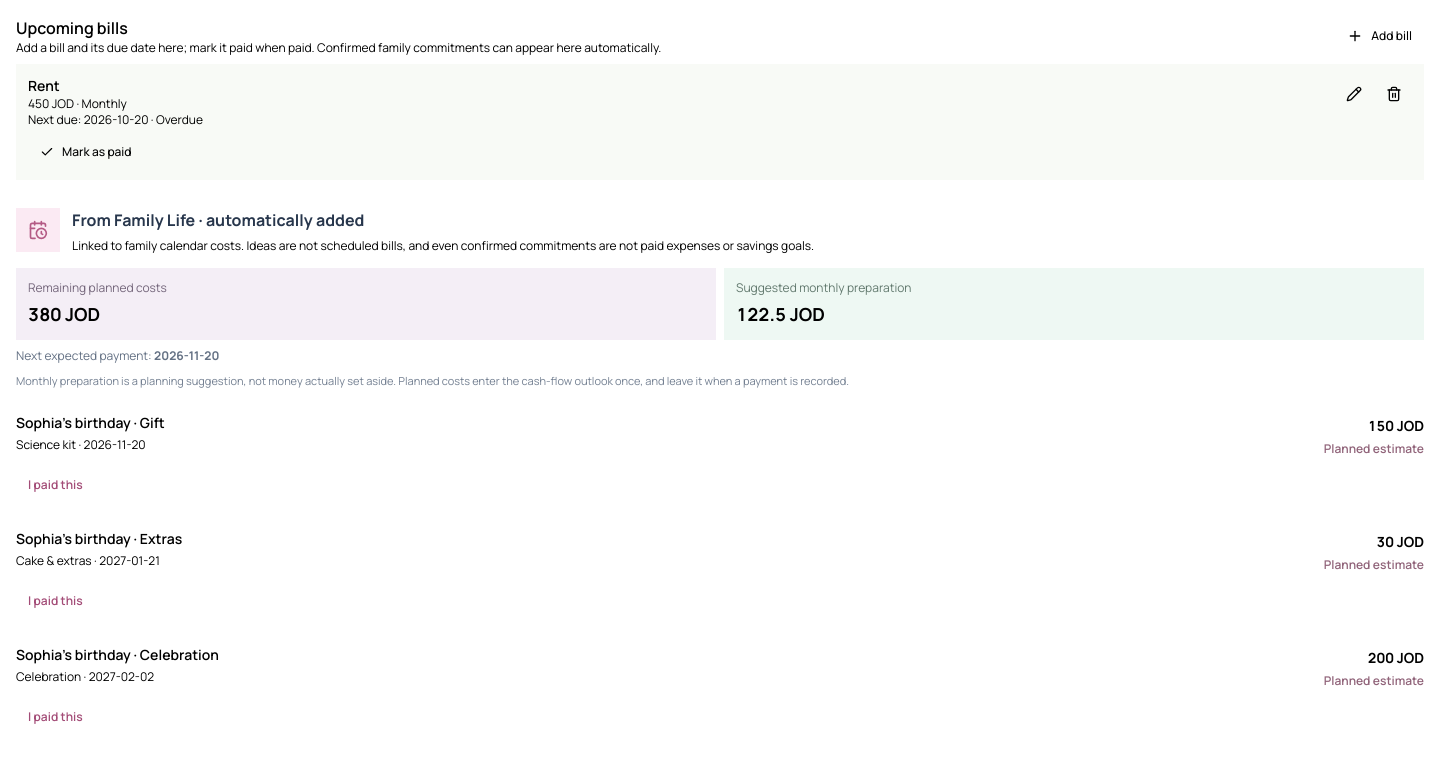
Scenario: Family commitments appear directly within Upcoming Bills › keeps changing the occasion in sync and removes paid items from Upcoming Bills
Expected: the text "380 JOD" is shown, [28, 302, 100, 326]
Click the button "I paid this" below "Science kit" at [55, 485], box [16, 465, 95, 505]
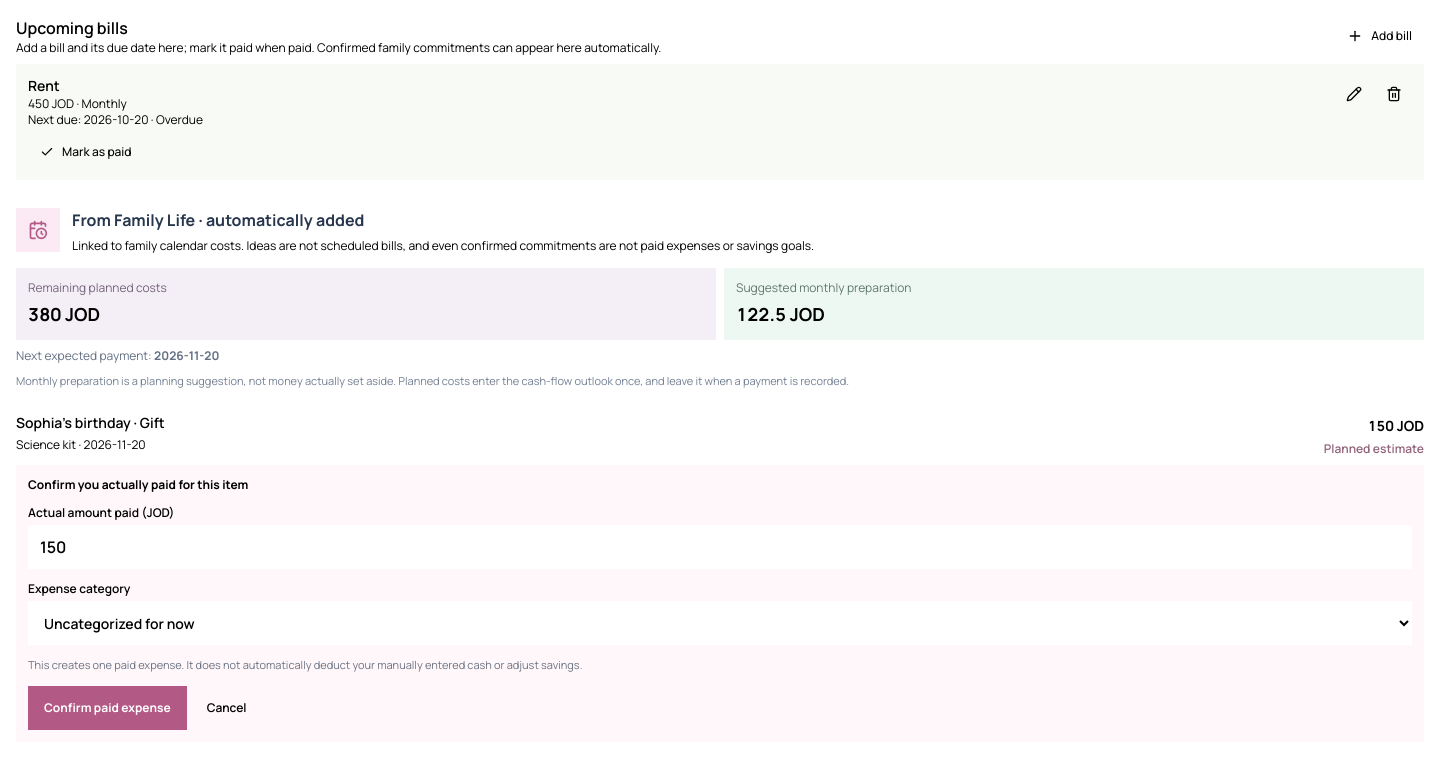
Select "Celebrations" in the dropdown labelled "Expense category" at [720, 623], box [28, 601, 1412, 645]
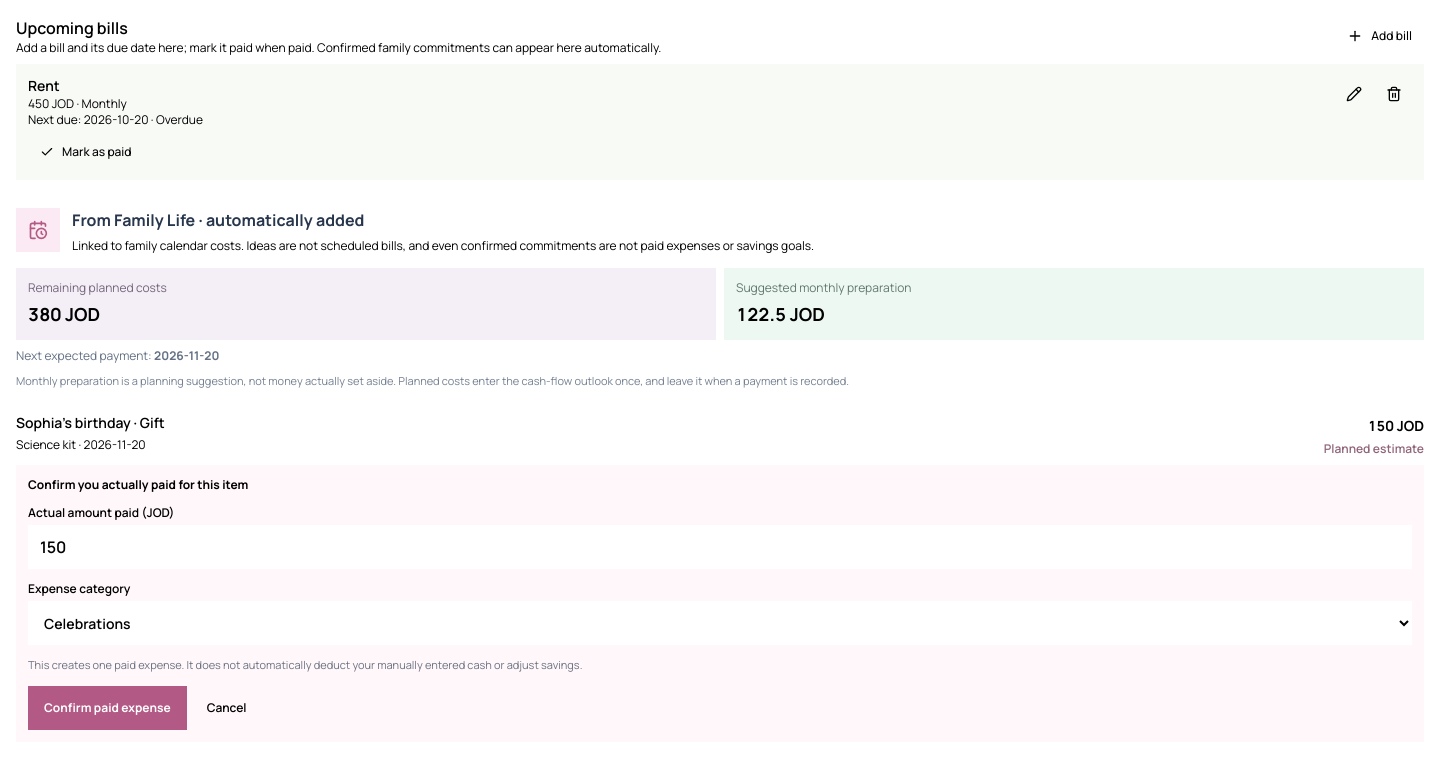
Replace the text in the number field labelled "Actual amount paid (JOD)" with "145" at [720, 547], box [28, 525, 1412, 569]
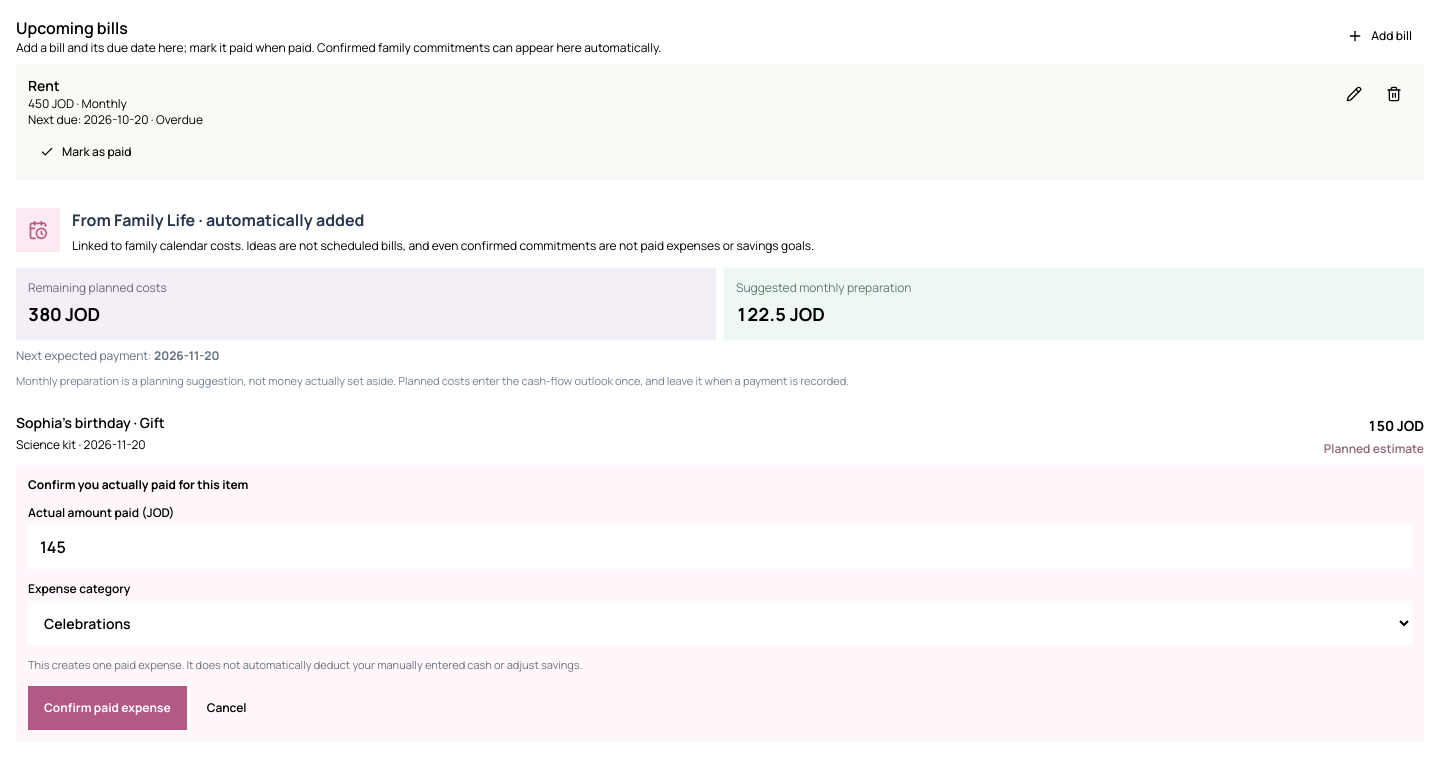
Click the button "Confirm paid expense" at [107, 708], box [28, 686, 187, 730]
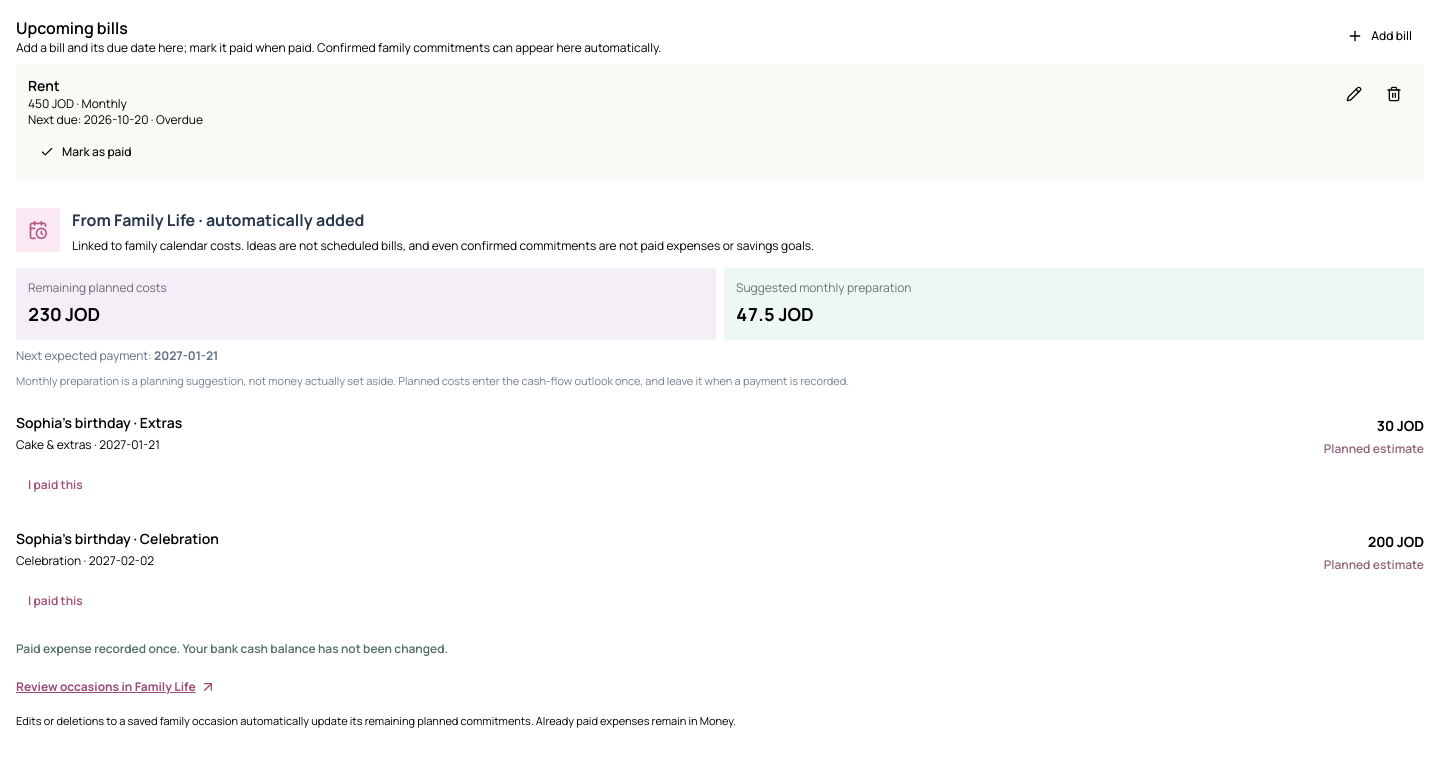
Now the text "Sophia's birthday · Gift" is gone
Now the text "230 JOD" is shown, box [28, 302, 100, 326]
